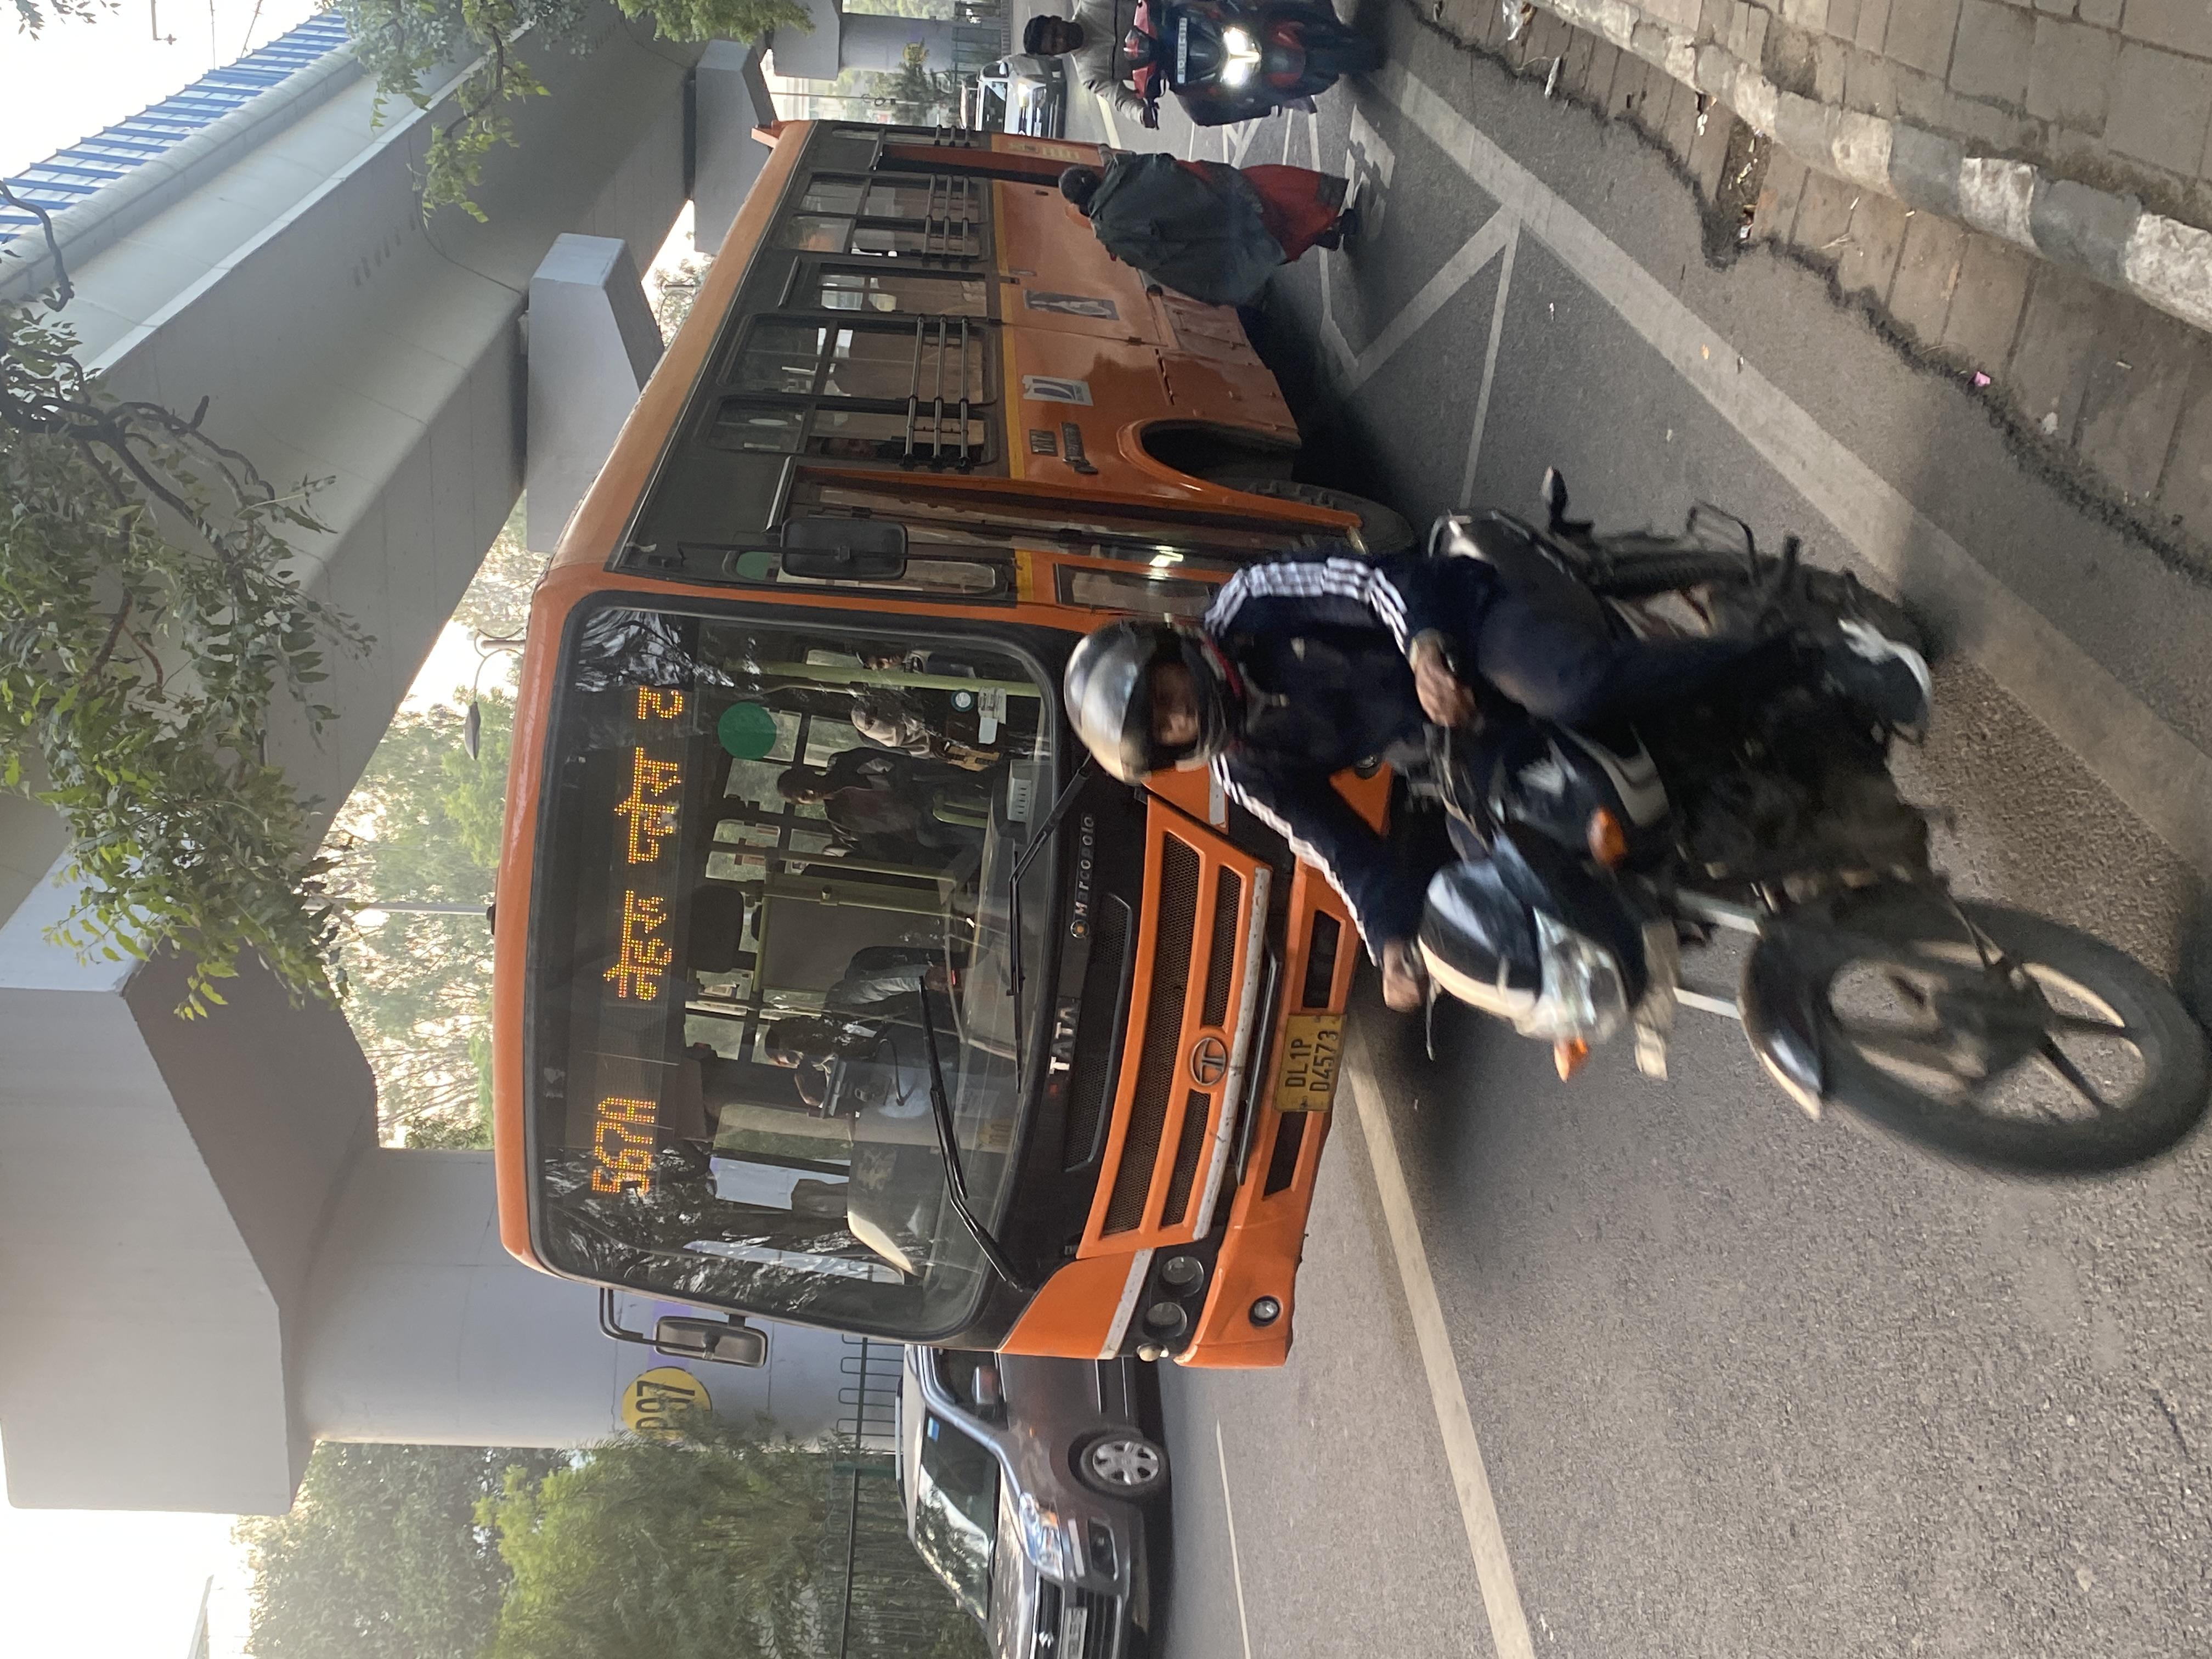Bus: (461, 549, 1481, 1393)
Display Board: (516, 571, 741, 1317)
License Plate: (1256, 977, 1350, 1163)
